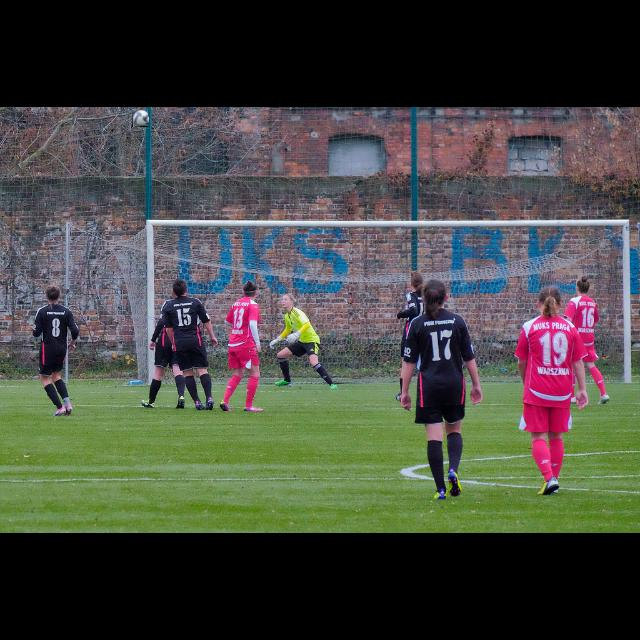Football: (132, 109, 148, 127)
